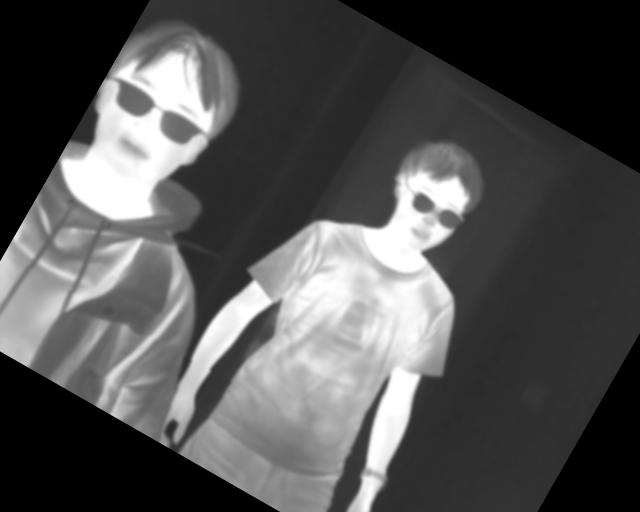face: (64, 1, 261, 213), (367, 124, 498, 266)
